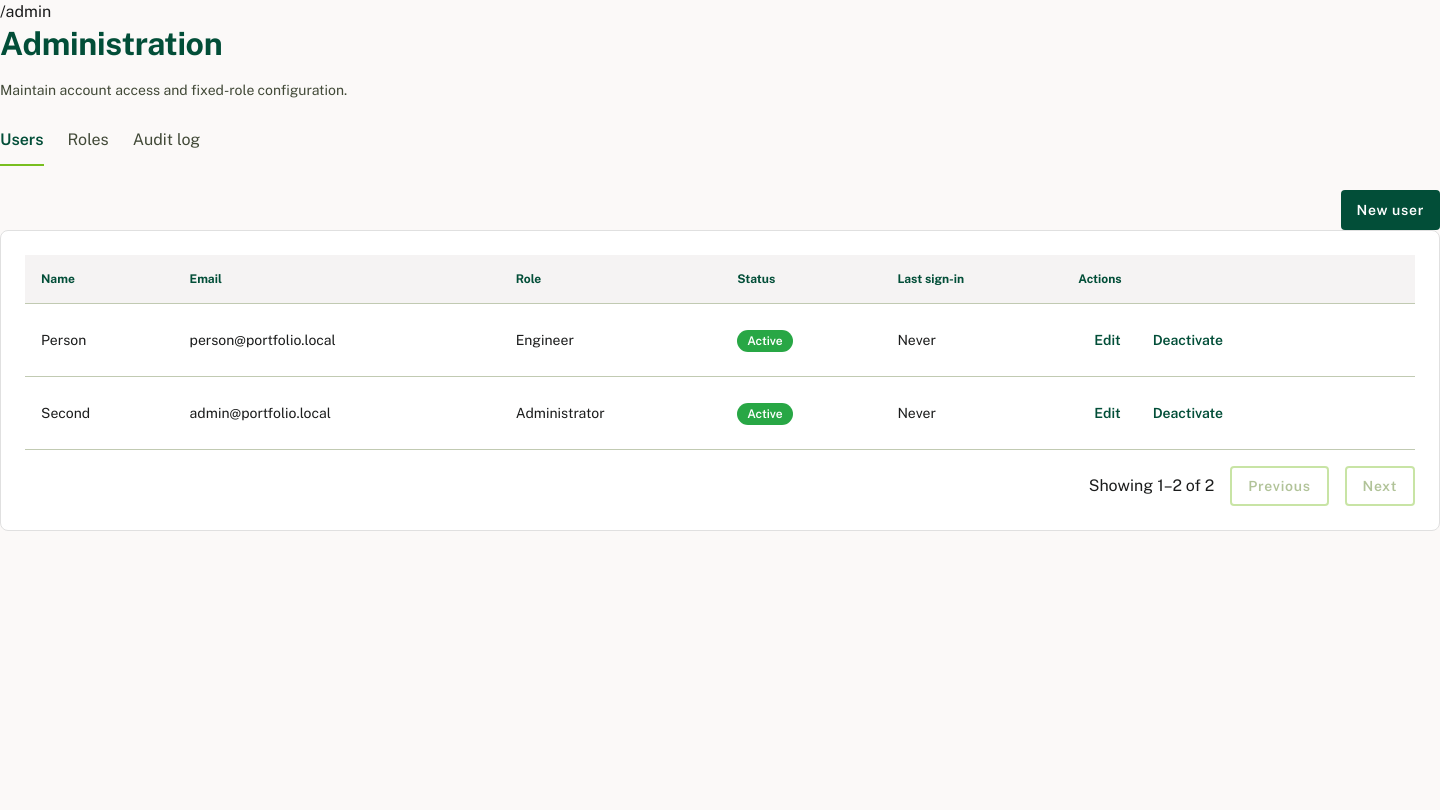
Test: deactivation cancel and confirm revoke through full maintenance and requery inactive row
This screenshot has width=1440, height=810.
Check: the text "Person" is shown, box [25,304,174,376]
Step 1. Click the button with aria-label "Deactivate Person" → (1188, 340), box [1137,320,1239,360]
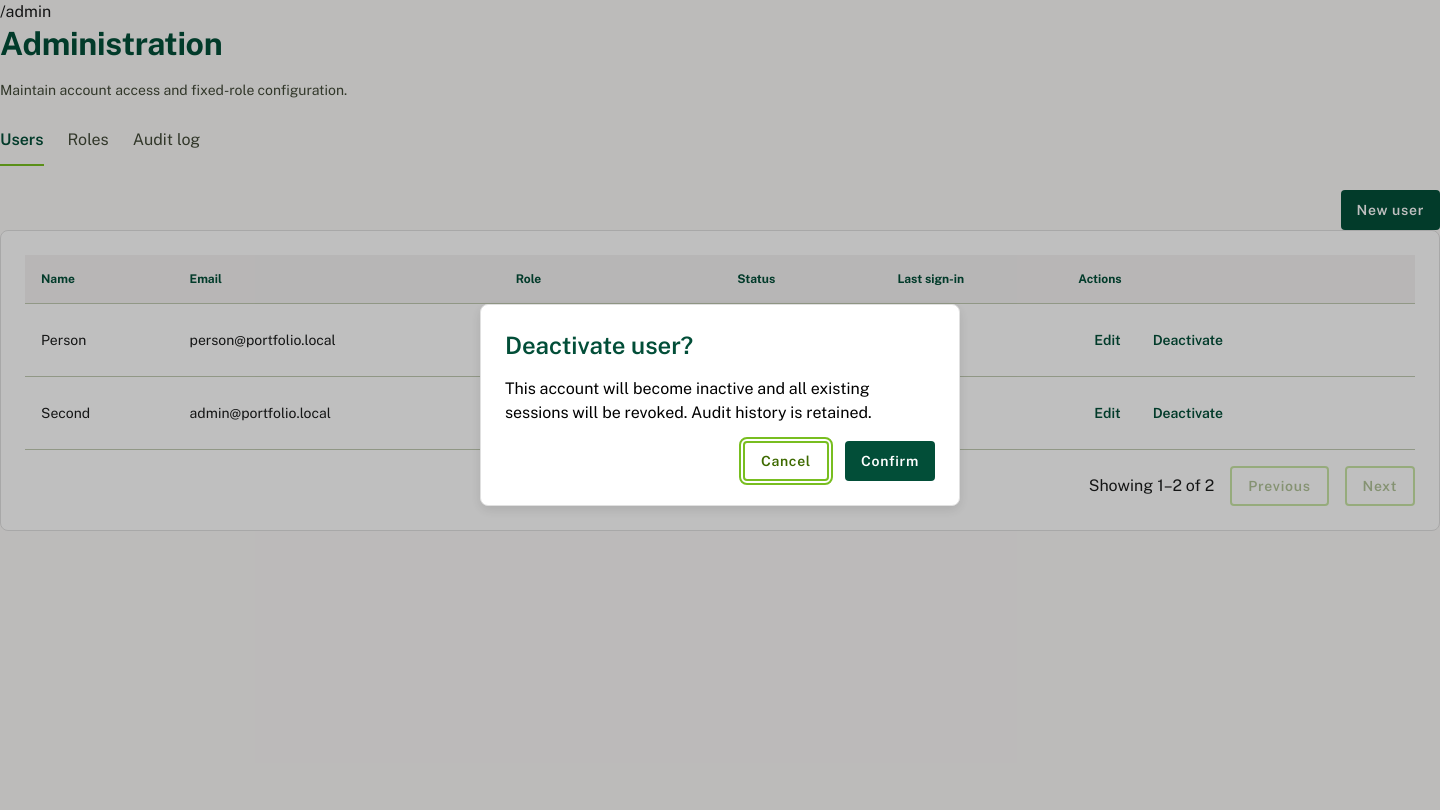
Check: the text "Audit history is retained" is shown, box [505,379,872,422]
Step 2. Click the button "Cancel" → (786, 461), box [743,441,829,481]
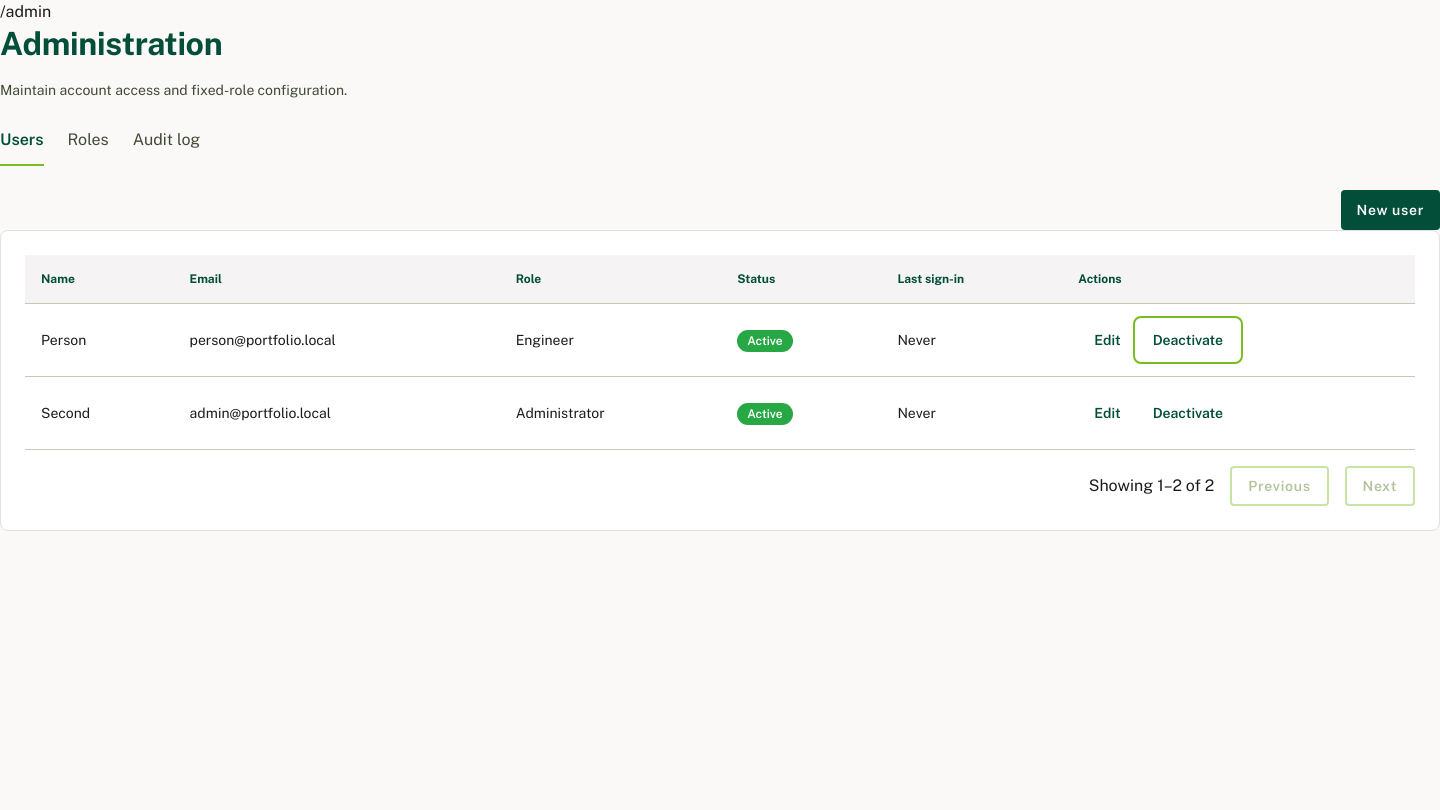
Step 3. Click the button with aria-label "Deactivate Person" → (1188, 340), box [1137,320,1239,360]
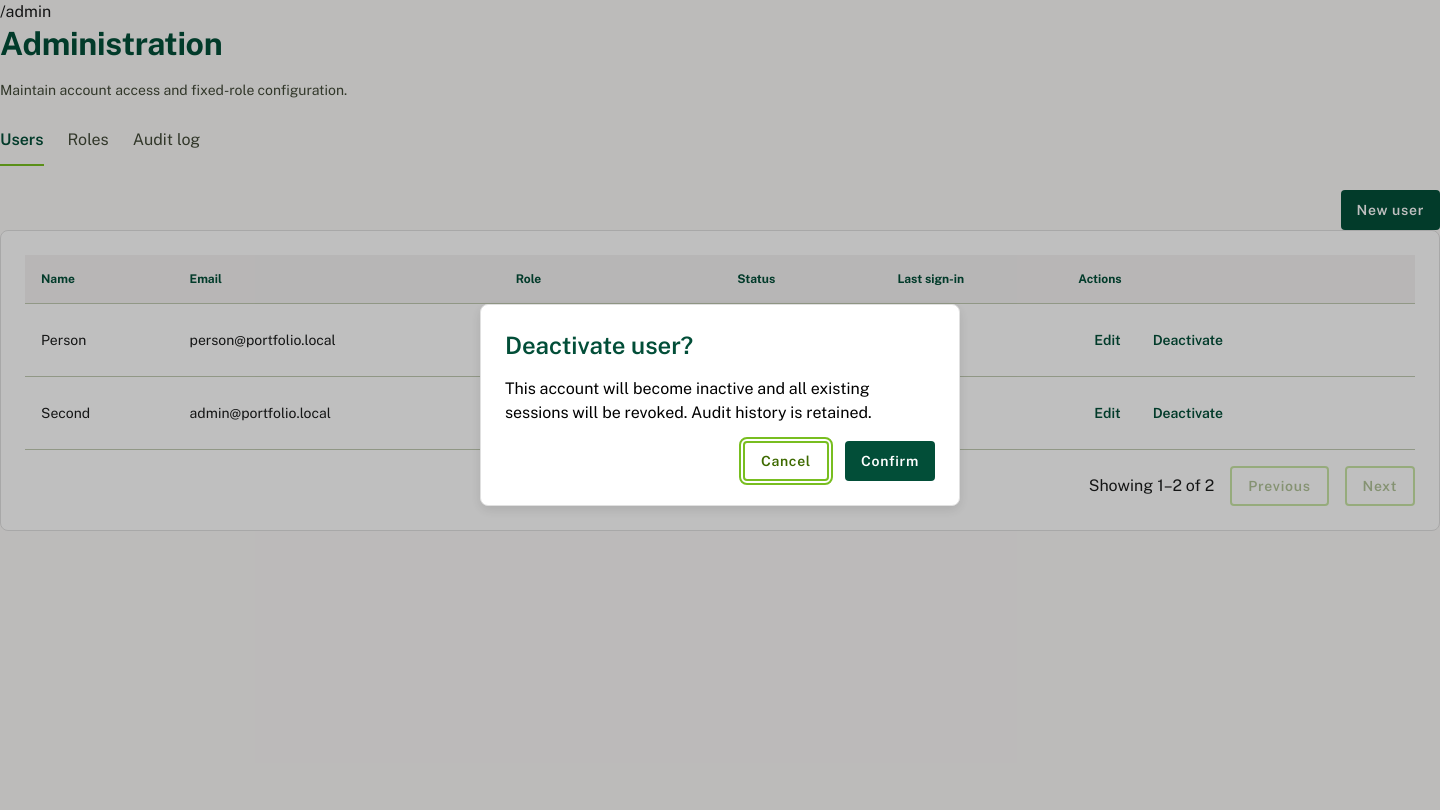
Step 4. Click the button "Confirm" → (890, 461), box [845,441,935,481]
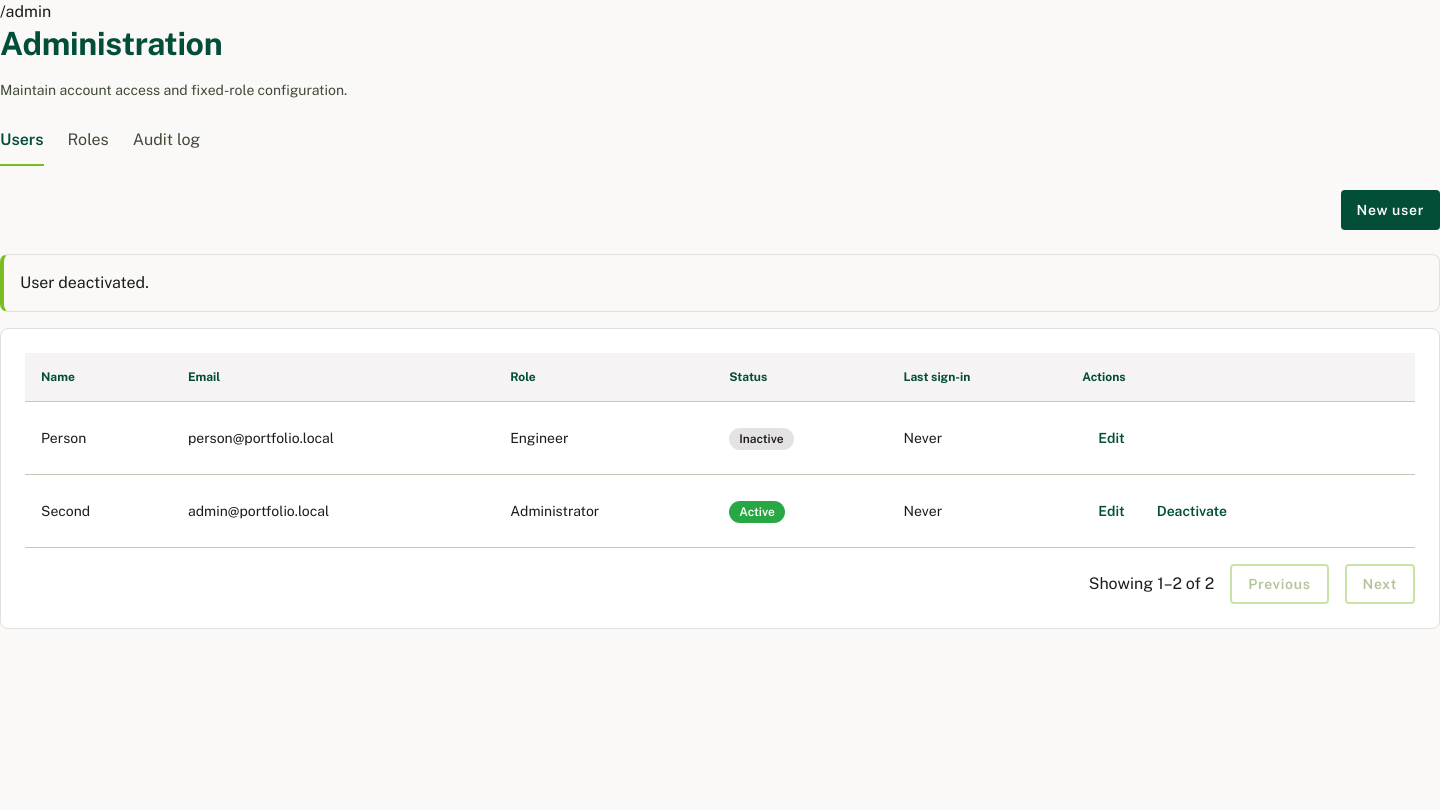
Check: the text "User deactivated." is shown, box [0,254,1439,312]
Check: the text "Inactive" is shown, box [729,428,794,450]
